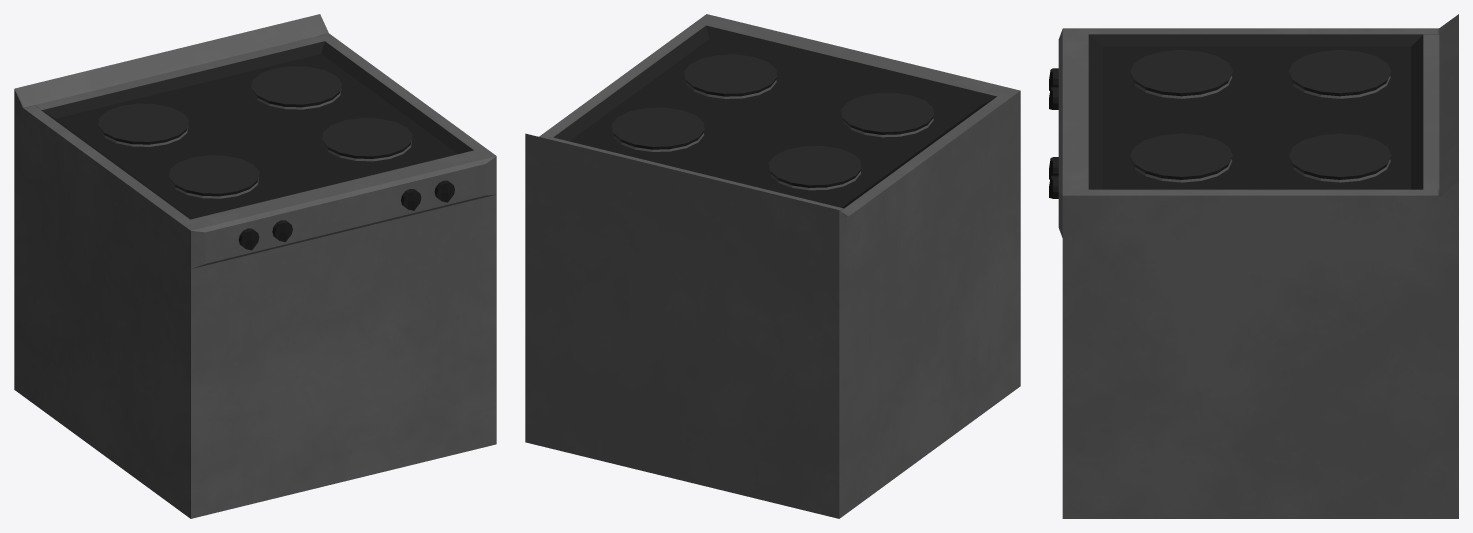
File: Oven.fbx
The picture shows the model from 3 angles, left to right: view 1: azimuth 30°, elevation 25°; view 2: azimuth 150°, elevation 25°; view 3: azimuth 270°, elevation 25°; orthographic projection. The views are drawn at different scales.
Parts seen in each view (by area): view 1: Oven, Cylinder.007, Cylinder.005, Cylinder.003, Cylinder.004; view 2: Oven, Cylinder.003, Cylinder.005, Cylinder.004, Cylinder.007; view 3: Oven, Cylinder.005, Cylinder.003, Cylinder.004, Cylinder.007.
Boxes of the visible parts, box(x1,y1,x2,y2) form: Oven: box(14, 14, 496, 518); Cylinder.007: box(169, 155, 259, 198); Cylinder.005: box(251, 66, 341, 109); Cylinder.003: box(322, 118, 412, 161); Cylinder.004: box(98, 103, 188, 146); Oven: box(525, 14, 1020, 518); Cylinder.003: box(684, 54, 777, 98); Cylinder.005: box(612, 107, 704, 151); Cylinder.004: box(768, 146, 861, 190); Cylinder.007: box(841, 93, 934, 137); Oven: box(1058, 14, 1458, 518); Cylinder.005: box(1289, 133, 1391, 182); Cylinder.003: box(1130, 133, 1232, 182); Cylinder.004: box(1289, 50, 1391, 98); Cylinder.007: box(1130, 50, 1232, 98).
Bounding box in the file's own units: 100 × 94 × 103.
